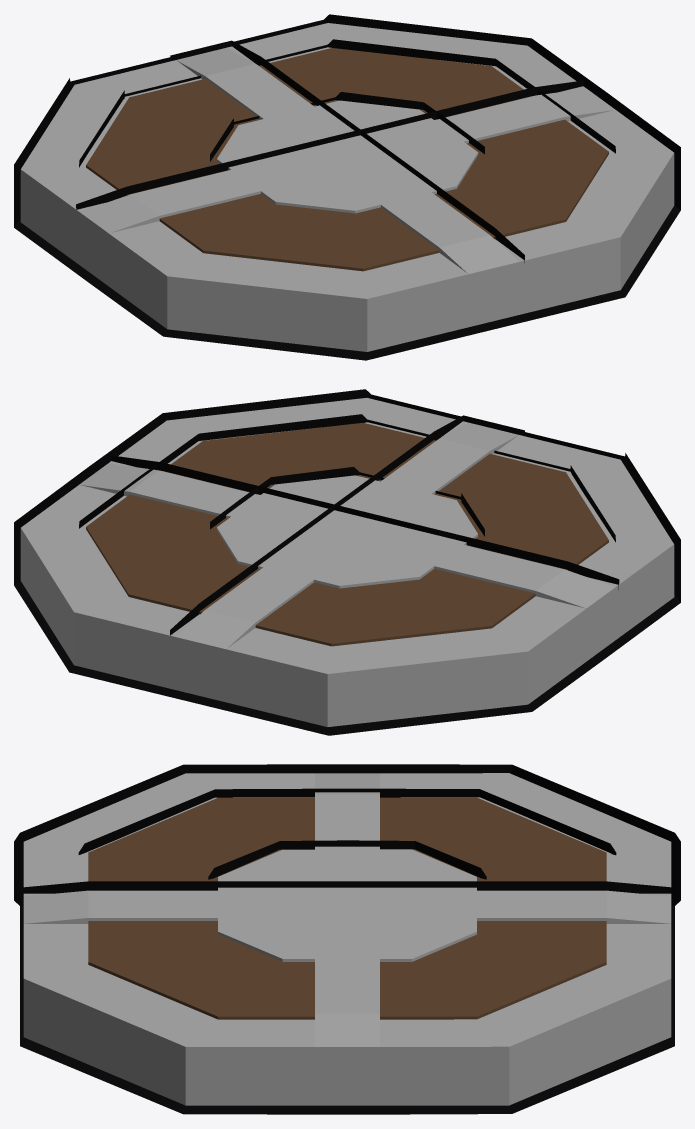
The model's file is Shield.fbx.
3 views of the same model, one above another, from view 1: azimuth 30°, elevation 25°; view 2: azimuth 150°, elevation 25°; view 3: azimuth 270°, elevation 25° (orthographic). The views are drawn at different scales.
Parts seen in each view (by area): view 1: 立方体.001, 立方体.005; view 2: 立方体.001, 立方体.005; view 3: 立方体.001, 立方体.005.
Boxes of the visible parts, x1,y1,x2,y2 form: 立方体.001: [20, 23, 674, 351]; 立方体.005: [14, 14, 680, 360]; 立方体.001: [20, 398, 674, 726]; 立方体.005: [14, 389, 680, 735]; 立方体.001: [23, 773, 671, 1105]; 立方体.005: [14, 764, 680, 1114].
Size of the model in its own units: 1022 by 135 by 1030.
